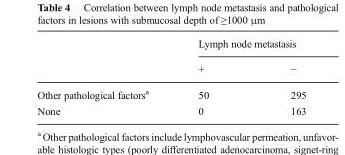table: (36, 37, 305, 116)
table column: (36, 37, 172, 116), (172, 37, 249, 116), (249, 37, 305, 116)
table column header: (36, 37, 305, 81)
table row: (36, 55, 305, 81), (36, 81, 305, 102), (36, 37, 305, 55), (36, 102, 305, 116)
table spanning cell: (172, 37, 305, 55)
